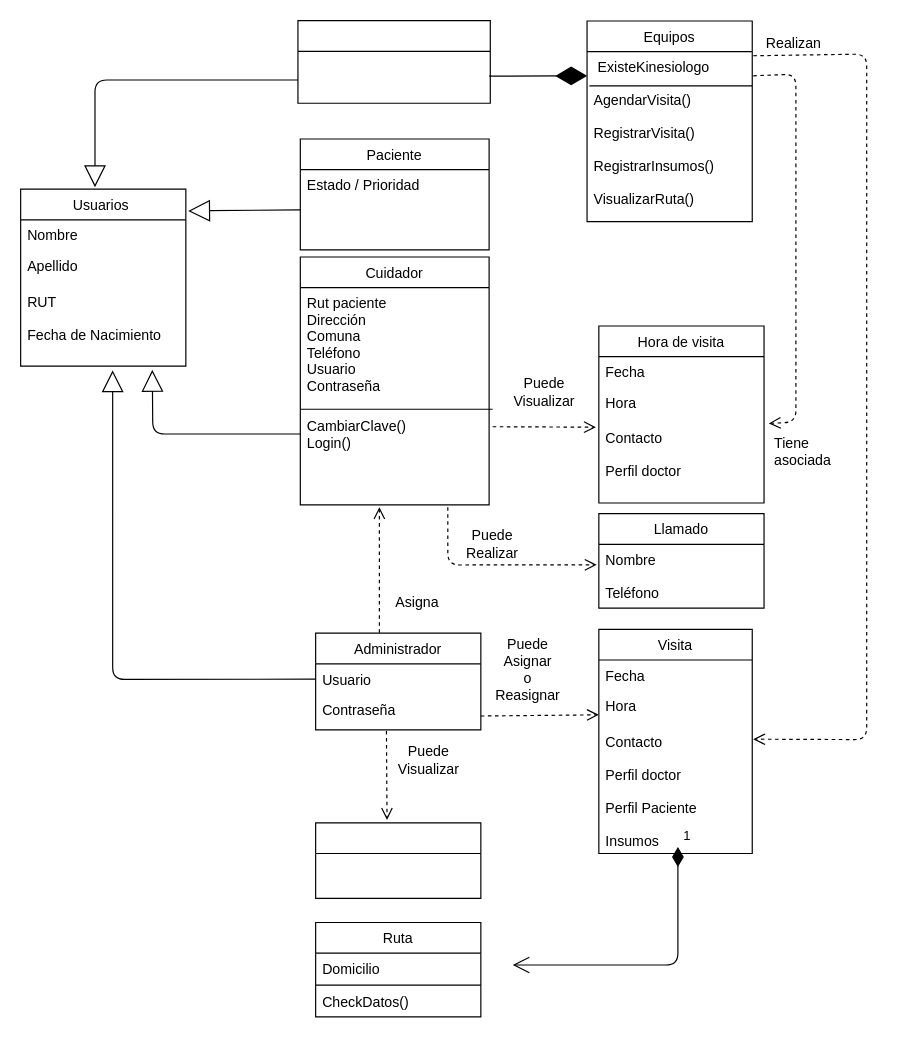
Some shapes in this 899 by 1041 pixel diagram are drawn without their labels. The centre of each missing label's shape, as x and y in pixels:
Especialista en Terreno: pixel 393 61
Informes: pixel 397 860
